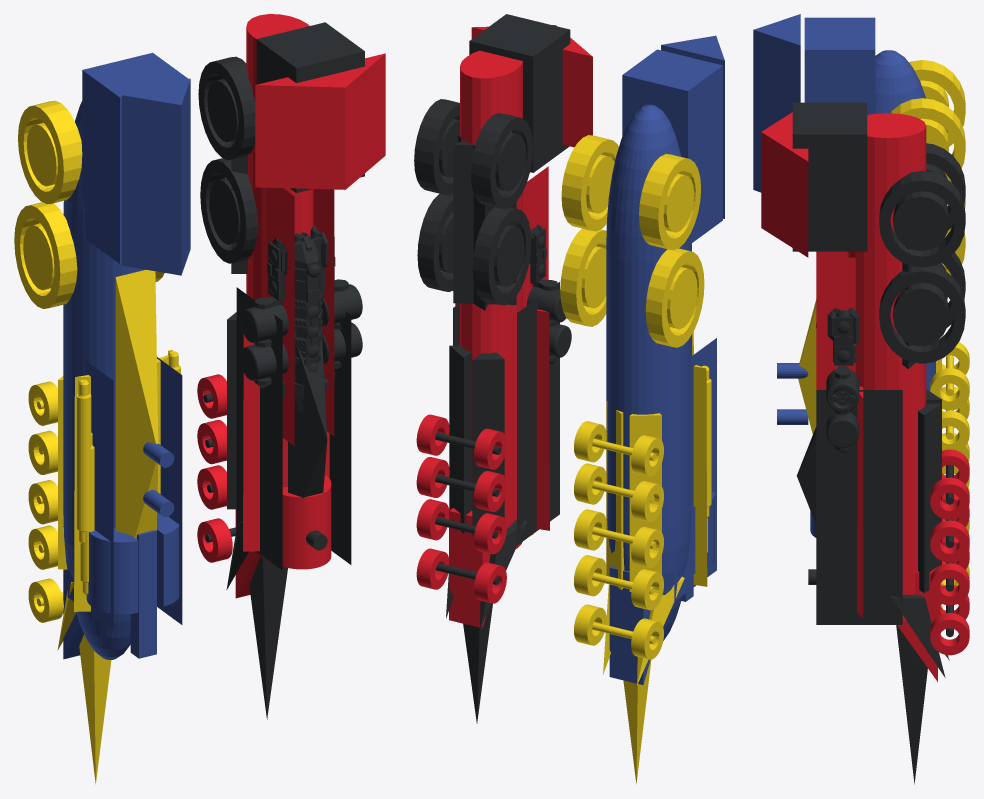
Rendered from tinker.obj.
3 views of the same model, side by side, from view 1: azimuth 30°, elevation 25°; view 2: azimuth 150°, elevation 25°; view 3: azimuth 270°, elevation 25° (orthographic). The views are drawn at different scales.
Parts seen in each view (by area): view 1: group_0_3888547, group_0_2829873, group_0_15277357, group_0_16768282; view 2: group_0_2829873, group_0_3888547, group_0_16768282, group_0_15277357; view 3: group_0_2829873, group_0_15277357, group_0_3888547, group_0_16768282.
Part boxes in pixels (left/top/right/bottom): group_0_3888547: left=63, top=52, right=190, bottom=659; group_0_2829873: left=198, top=22, right=364, bottom=719; group_0_15277357: left=197, top=14, right=385, bottom=598; group_0_16768282: left=14, top=100, right=180, bottom=784; group_0_2829873: left=414, top=14, right=571, bottom=723; group_0_3888547: left=606, top=35, right=724, bottom=684; group_0_16768282: left=560, top=135, right=711, bottom=784; group_0_15277357: left=416, top=25, right=592, bottom=628; group_0_2829873: left=792, top=102, right=965, bottom=784; group_0_15277357: left=761, top=112, right=969, bottom=681; group_0_3888547: left=753, top=14, right=935, bottom=537; group_0_16768282: left=798, top=60, right=969, bottom=608.
Bounding box in the file's own units: 79.5 × 196 × 55.
